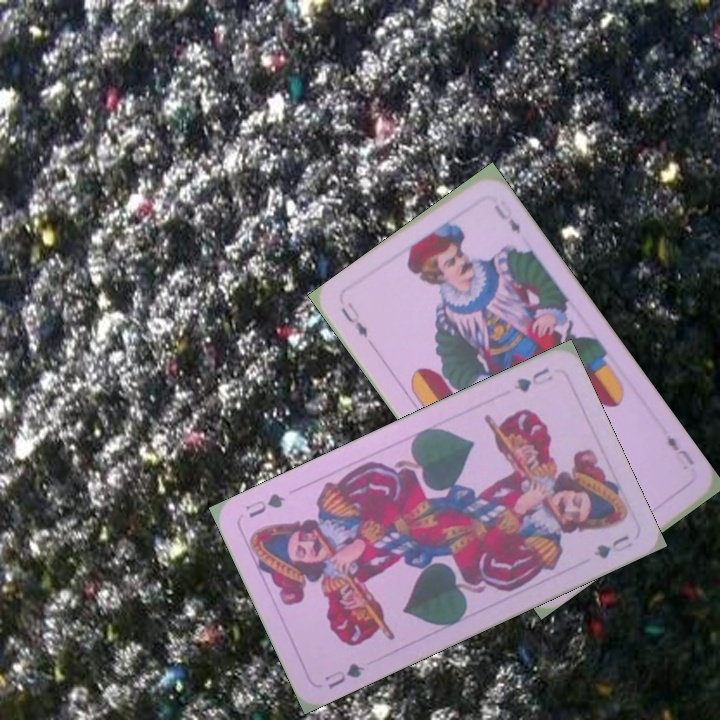EU: (336, 298, 371, 341), (662, 430, 698, 468)
GU: (320, 658, 367, 692), (510, 364, 556, 395)
